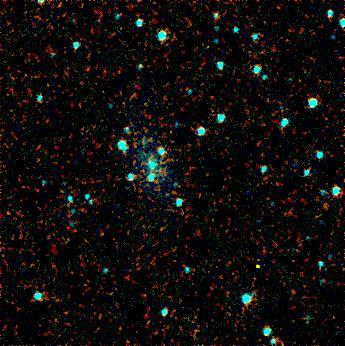star: (243, 248, 273, 278)
